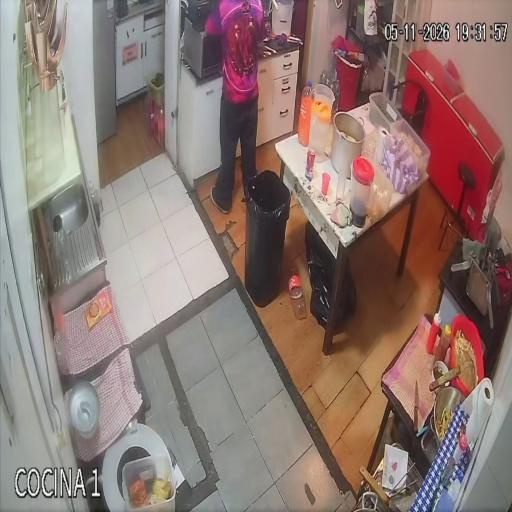Basurero: (245, 170, 290, 306)
Cuchillo1: (414, 380, 419, 433)
Envase Ketchup: (426, 313, 441, 354)
Envase Llajua: (434, 325, 451, 362)
Jarra1: (350, 156, 374, 227)
Jarra2: (309, 100, 331, 162)
Jarra3: (313, 83, 334, 109)
Microondas: (183, 18, 222, 78)
Persona1: (205, 0, 264, 213)
Tapa de olla: (66, 380, 100, 439)
Taper: (122, 455, 176, 512)
Taper2: (369, 92, 402, 131)
Taper3: (390, 119, 430, 174)
Taper4: (369, 161, 395, 221)
Vaso1: (321, 173, 330, 196)
olla1: (331, 112, 365, 175)
